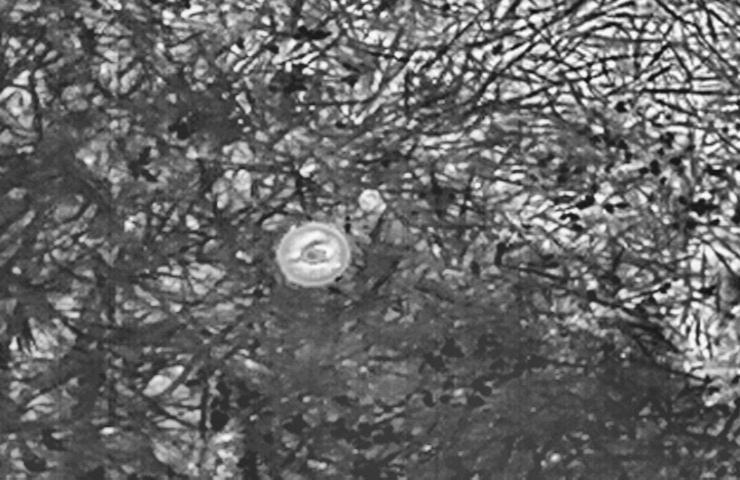landmines: (273, 217, 356, 295)
